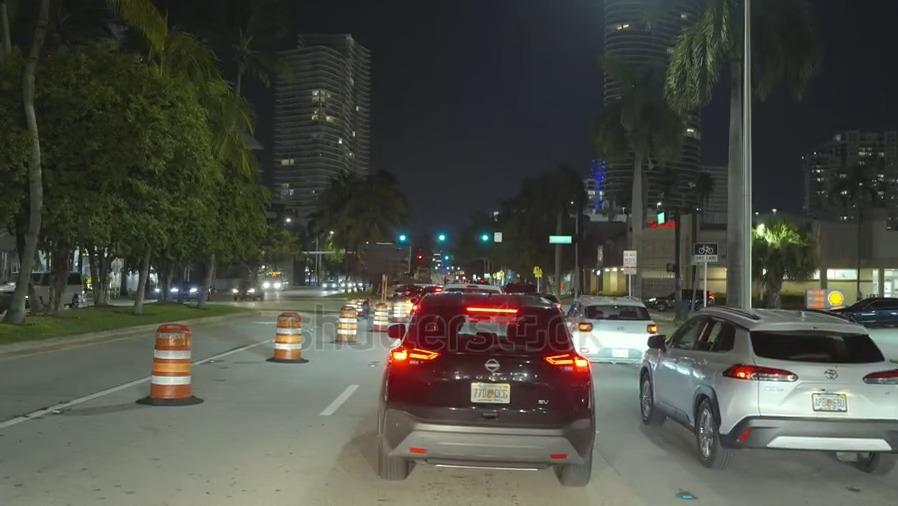car: (644, 309, 898, 474), (380, 294, 591, 483), (565, 290, 657, 365), (0, 262, 97, 322), (639, 284, 713, 313), (841, 294, 898, 327), (148, 275, 184, 303), (229, 278, 265, 305), (187, 275, 214, 302), (263, 273, 289, 293), (319, 275, 338, 295)
cone: (142, 319, 199, 399), (272, 306, 303, 359), (336, 303, 355, 345), (373, 299, 388, 334), (389, 295, 405, 323)
traffic light: (473, 227, 496, 250), (430, 227, 451, 249), (393, 227, 412, 246)
wheel: (686, 390, 727, 468), (633, 359, 663, 430)
